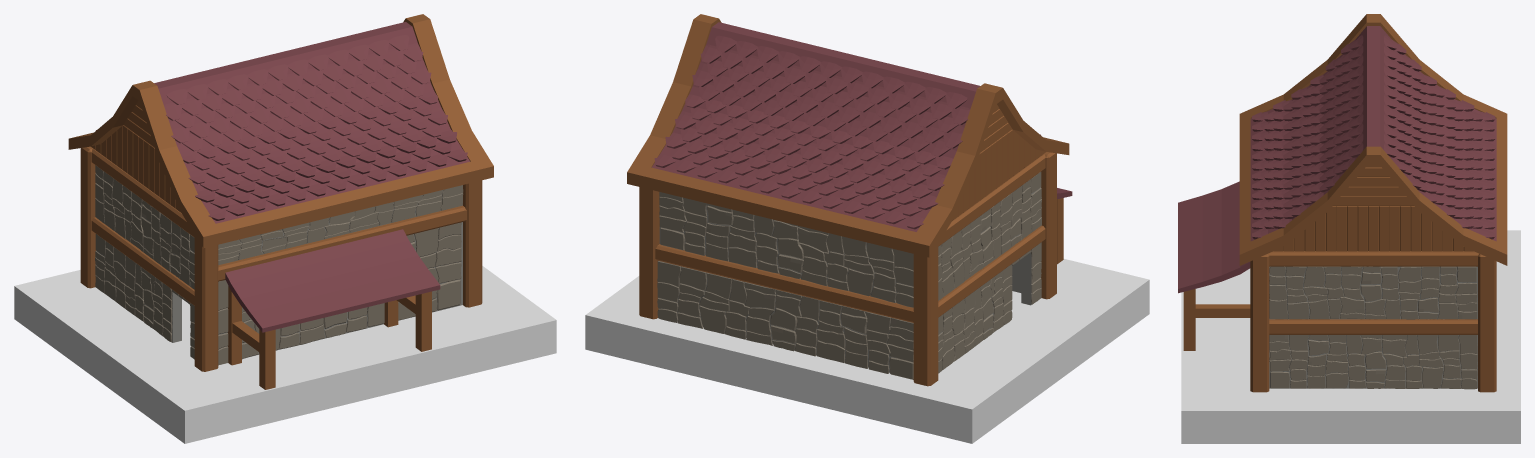
File: House.fbx
3 renders of one model, left to right at view 1: azimuth 30°, elevation 25°; view 2: azimuth 150°, elevation 25°; view 3: azimuth 270°, elevation 25°, orthographic. The views are drawn at different scales.
Parts seen in each view (by area): view 1: Plane, Roof.002, Roof.001, Cube.002, Cube.001, Plane.007, Plane.004, Plane.009, Plane.001, Roof, Plane.003; view 2: Plane, Roof.002, Roof.001, Cube.001, Plane.007, Plane.008, Plane.004, Plane.001, Roof, Plane.003, Cube.002; view 3: Plane, Roof.002, Roof.001, Cube.001, Plane.006, Plane.005, Roof, Cube.002, Plane.003.
Boxes of the visible parts, x1,y1,x2,y2 form: Plane: [14, 266, 556, 443]; Roof.002: [96, 35, 467, 220]; Roof.001: [68, 14, 493, 248]; Cube.002: [225, 229, 440, 389]; Cube.001: [80, 146, 482, 371]; Plane.007: [218, 222, 461, 365]; Plane.004: [95, 165, 194, 289]; Plane.009: [218, 185, 463, 265]; Plane.001: [95, 234, 194, 359]; Roof: [91, 100, 181, 212]; Plane.003: [96, 193, 462, 356]; Plane: [585, 259, 1149, 443]; Roof.002: [654, 35, 1040, 229]; Roof.001: [627, 14, 1069, 257]; Cube.001: [639, 152, 1056, 386]; Plane.007: [657, 261, 913, 379]; Plane.008: [659, 192, 913, 307]; Plane.004: [938, 172, 1041, 300]; Plane.001: [938, 242, 1041, 373]; Roof: [952, 104, 1045, 220]; Plane.003: [659, 187, 1040, 372]; Cube.002: [1057, 188, 1072, 264]; Plane: [1181, 230, 1520, 443]; Roof.002: [1252, 35, 1495, 239]; Roof.001: [1239, 14, 1507, 265]; Cube.001: [1250, 251, 1496, 392]; Plane.006: [1269, 335, 1477, 389]; Plane.005: [1269, 266, 1477, 319]; Roof: [1274, 166, 1473, 251]; Cube.002: [1178, 181, 1250, 350]; Plane.003: [1269, 266, 1477, 388].
Size of the model in its own units: 1127 by 794 by 905.
